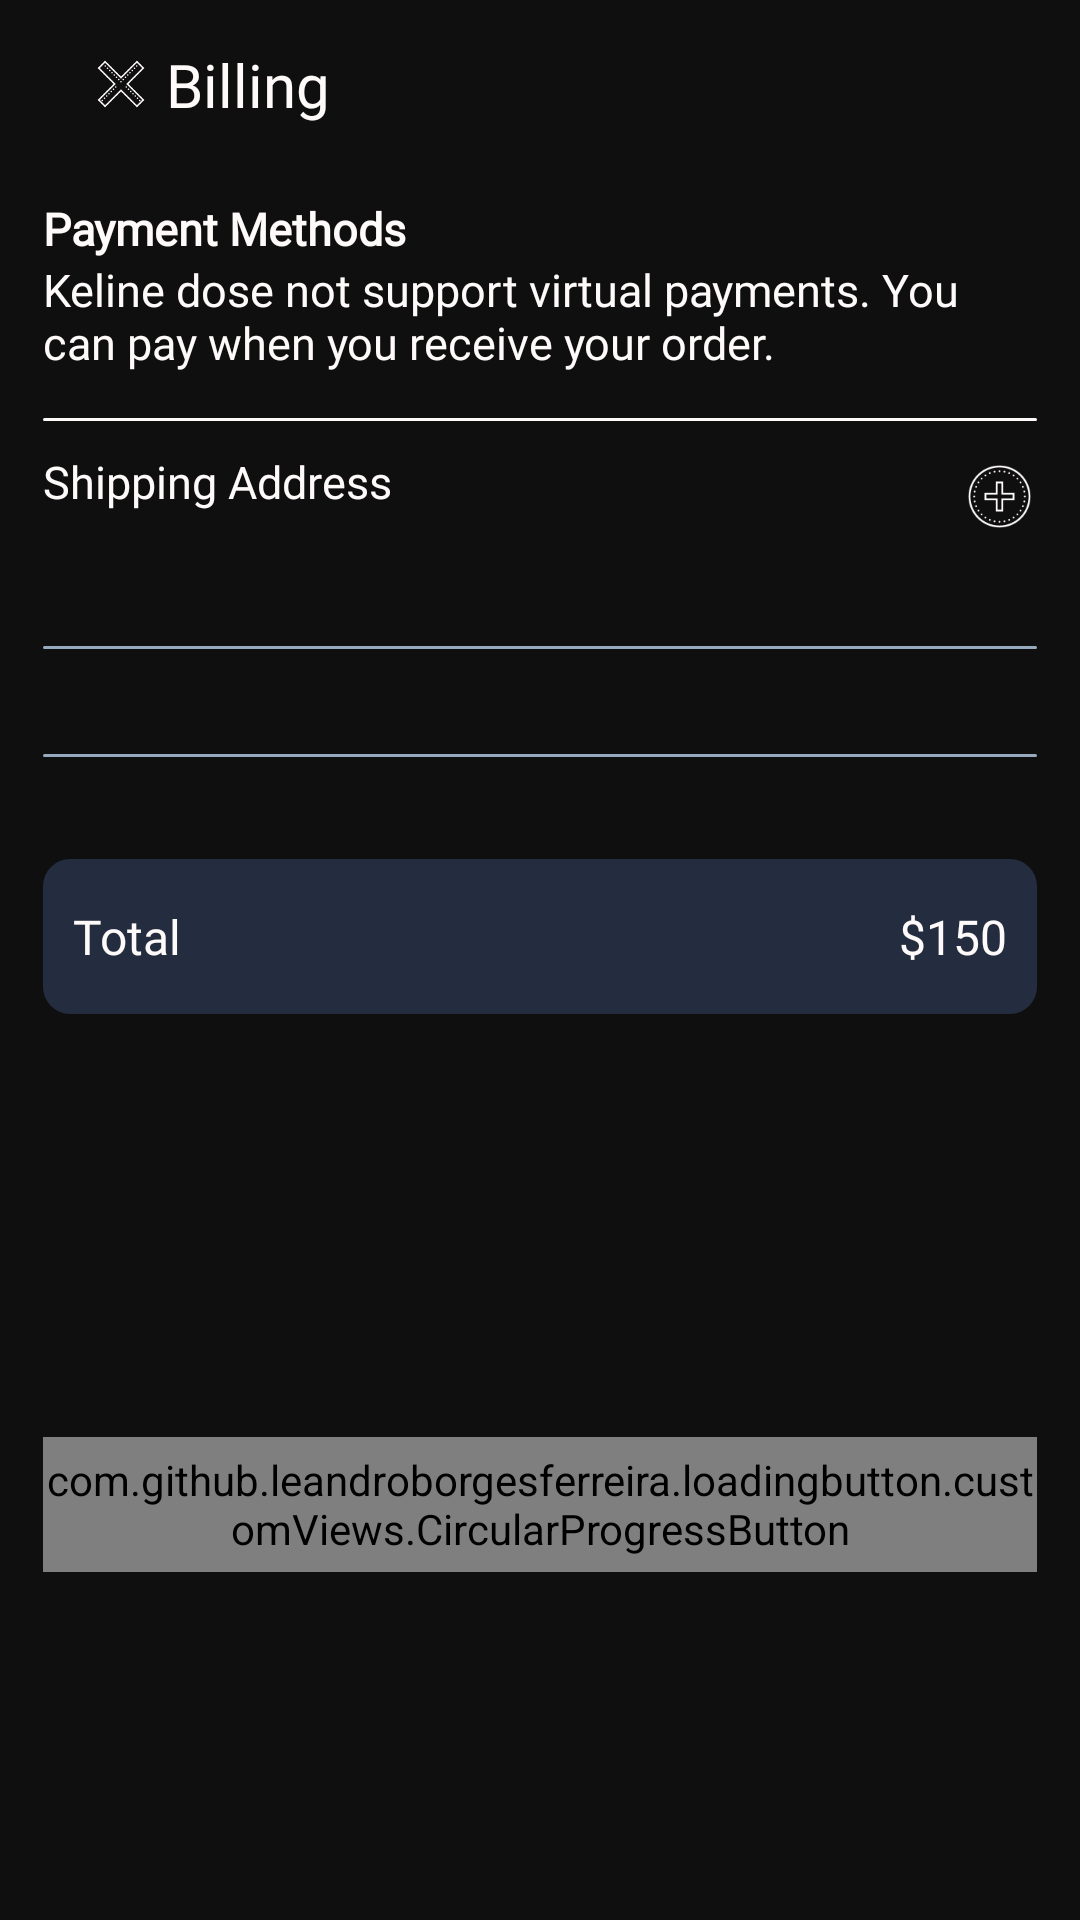

Screen size 1080w x 1920h. Icon name, then its box in pixels as [left=x1, top=y1, right=x2, bottom=y2]:
close: [left=98, top=61, right=144, bottom=107]
plus: [left=968, top=465, right=1031, bottom=528]
